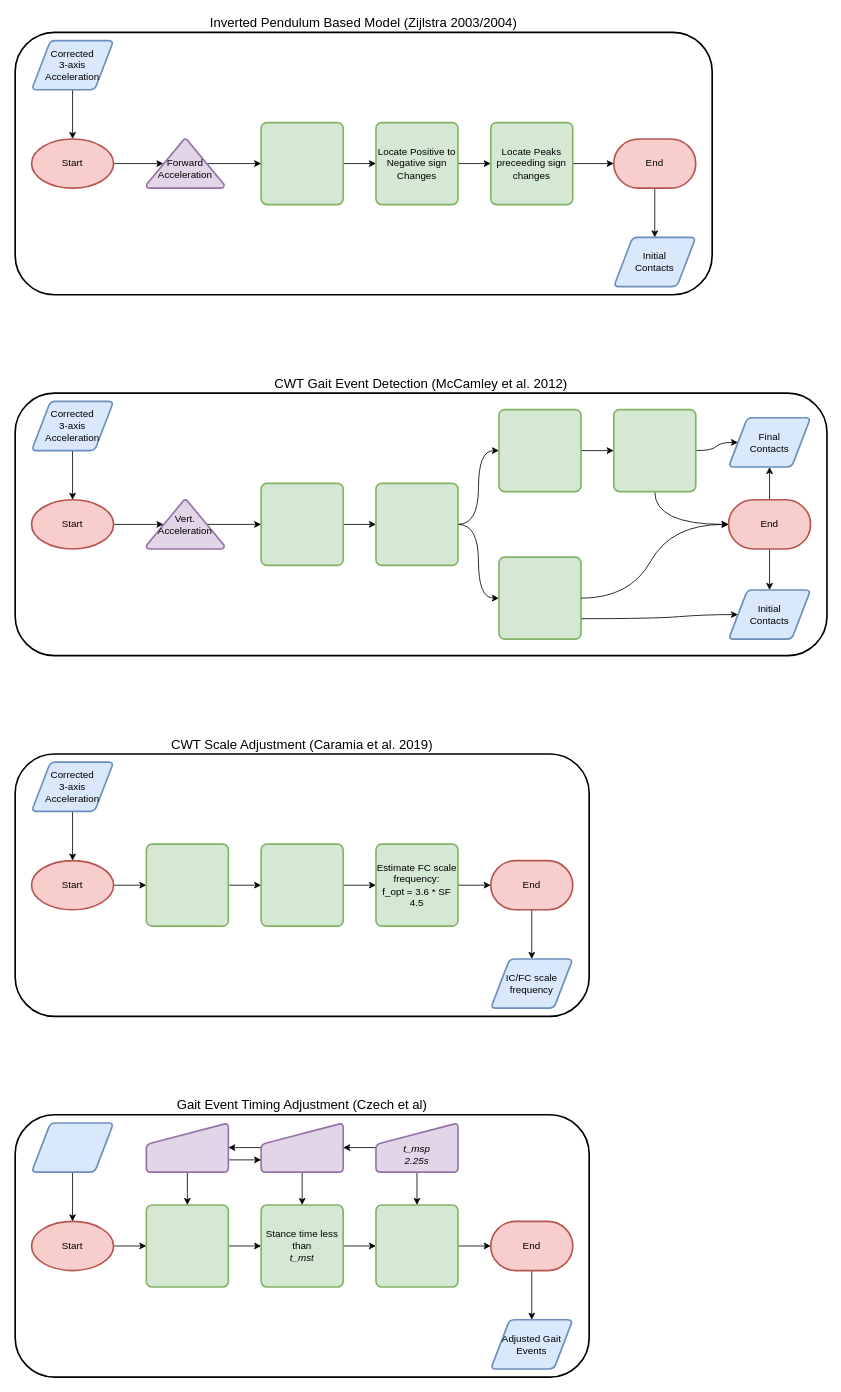
Some shapes in this 841 by 1392 pixel diagram are drawn without their labels. Here are the shapes that lost their labels. From the top down, the centre of each, then its label:
pixel 302 163: 4th Order, 2Hz Lowpass Butterworth Filter
pixel 539 450: CWT 'gaus1' scale ~ 1.25Hz?
pixel 654 450: Find Local Maxima
pixel 302 524: Integrate
pixel 416 524: CWT 'gaus1' scale ~ 1.25Hz
pixel 539 598: Find Local Minima
pixel 187 885: Estimate Step Frequency (SF)
pixel 302 885: Estimate IC scale frequency: f_opt = 0.69 * SF + 0.34
pixel 72 1147: Gait Events
pixel 187 1147: t_msp * 0.2
pixel 302 1147: t_msp/2 + t_mds
pixel 187 1245: Double Support less than t_mds
pixel 416 1245: Step time less than t_msp
